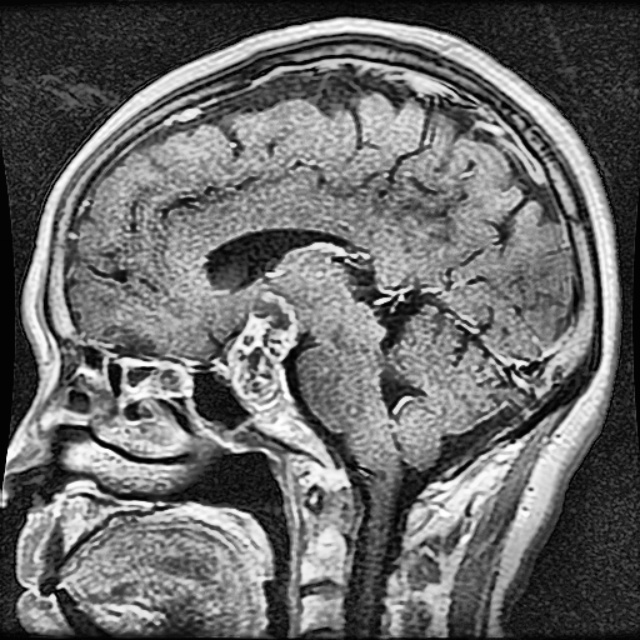Pituitary: (225, 292, 295, 407)
